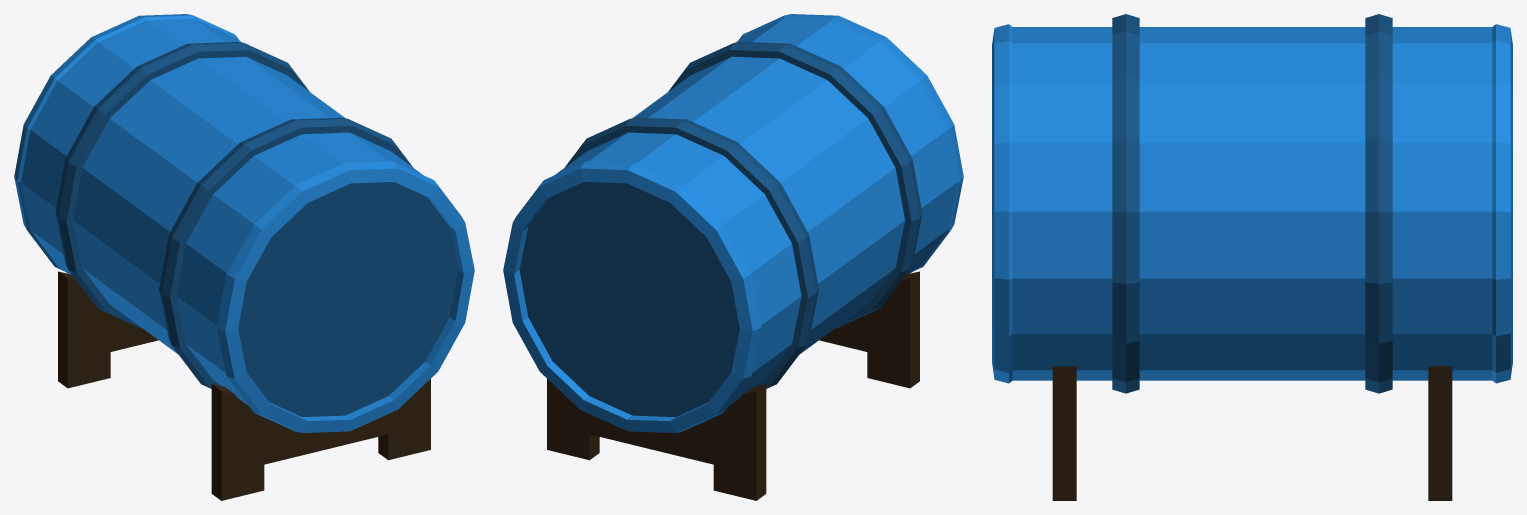
File: OilBarrel_01.fbx
The picture shows the model from 3 angles, left to right: view 1: azimuth 30°, elevation 25°; view 2: azimuth 150°, elevation 25°; view 3: azimuth 270°, elevation 25°; orthographic projection. The views are drawn at different scales.
Parts seen in each view (by area): view 1: OilBarrel_01; view 2: OilBarrel_01; view 3: OilBarrel_01.
Boxes of the visible parts, <box> form: OilBarrel_01: <box>14,14,474,500</box>; OilBarrel_01: <box>503,14,963,500</box>; OilBarrel_01: <box>992,14,1512,500</box>.
Size of the model in its own units: 114 by 135 by 157.
